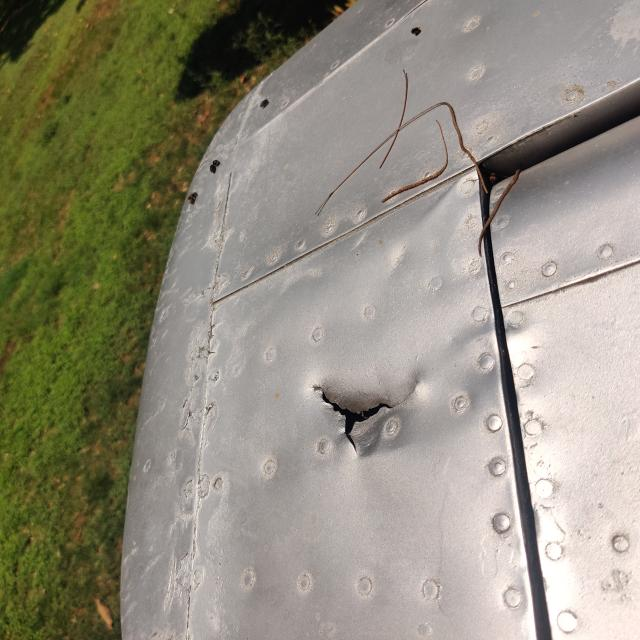crack: (178, 306, 276, 428)
